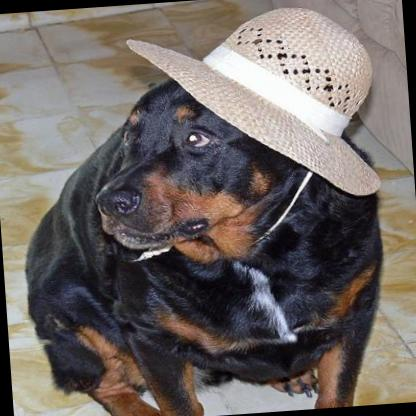Rottweiler: (11, 60, 393, 416)
